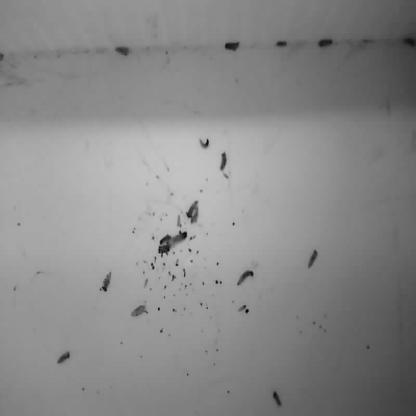PtecticusTenebrifer: (168, 230, 188, 246), (238, 270, 254, 286), (307, 249, 319, 270), (186, 199, 198, 218), (101, 272, 112, 292), (131, 304, 147, 317), (271, 391, 283, 408), (190, 204, 200, 223), (58, 350, 70, 364), (115, 45, 130, 56), (225, 42, 241, 51), (319, 39, 333, 49), (199, 138, 210, 148), (221, 150, 226, 170), (277, 40, 287, 48)
